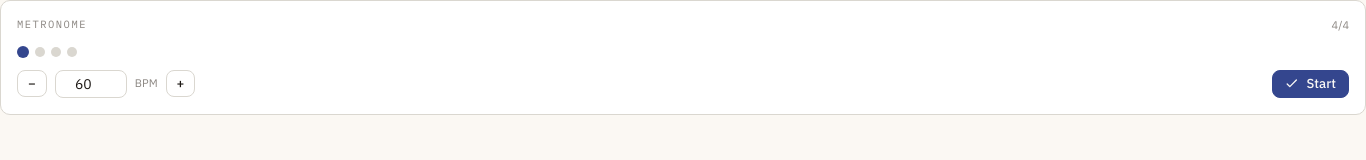
Metronome › toggles between Start and Stop
The width and height of the screenshot is (1366, 160).
Click the button with test id "metronome-toggle" at (1310, 84), box [1272,70,1349,98]
Wait 1000 ms
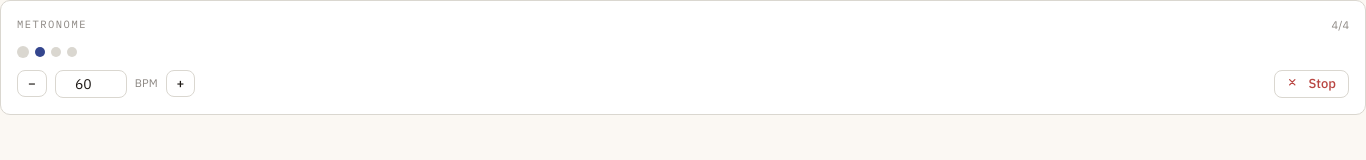
Expected: the button with test id "metronome-toggle" reads "Stop"
Click the button with test id "metronome-toggle" at (1311, 84), box [1274,70,1349,98]
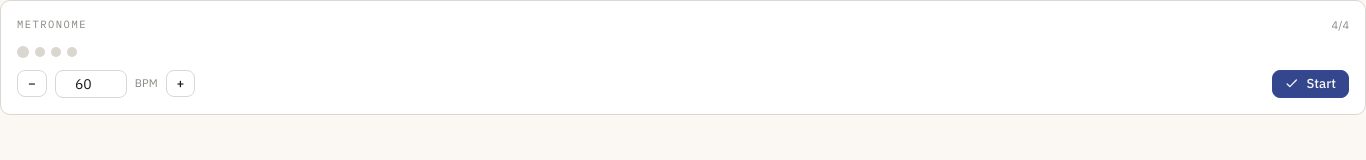
Expected: the button with test id "metronome-toggle" reads "Start", [1272,70,1349,98]
